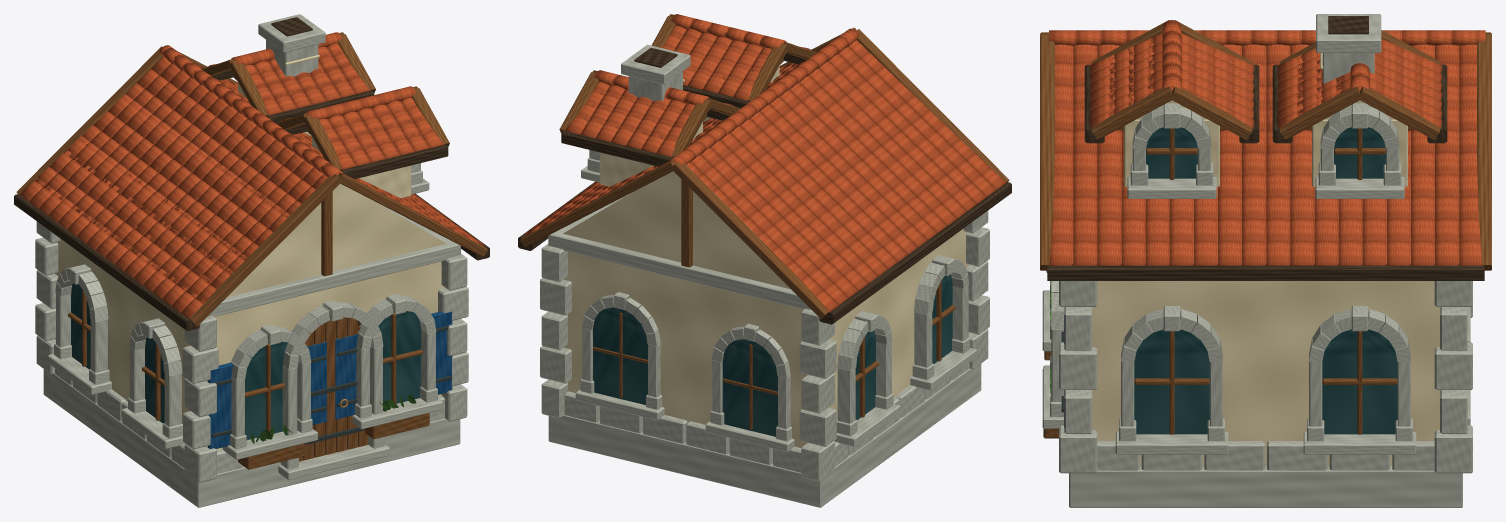
The model's file is orchard_cottage.glb.
The picture shows the model from 3 angles, left to right: view 1: azimuth 30°, elevation 25°; view 2: azimuth 150°, elevation 25°; view 3: azimuth 270°, elevation 25°; orthographic projection. The views are drawn at different scales.
Parts seen in each view (by area): view 1: orchard_cottage_Roof.001, orchard_cottage_Structure.001, orchard_cottage_Joinery.001, orchard_cottage_Detail.001, orchard_cottage_Glazing.001, orchard_cottage_Metalwork.001; view 2: orchard_cottage_Structure.001, orchard_cottage_Roof.001, orchard_cottage_Detail.001, orchard_cottage_Joinery.001, orchard_cottage_Glazing.001; view 3: orchard_cottage_Roof.001, orchard_cottage_Structure.001, orchard_cottage_Joinery.001, orchard_cottage_Detail.001, orchard_cottage_Glazing.001.
Boxes of the visible parts, x1,y1,x2,y2 form: orchard_cottage_Roof.001: (19,32,484,319); orchard_cottage_Structure.001: (35,14,468,507); orchard_cottage_Joinery.001: (14,32,489,469); orchard_cottage_Detail.001: (47,163,442,479); orchard_cottage_Glazing.001: (71,283,421,440); orchard_cottage_Metalwork.001: (211,325,451,444); orchard_cottage_Structure.001: (540,44,989,507); orchard_cottage_Roof.001: (523,14,1006,311); orchard_cottage_Detail.001: (575,150,976,451); orchard_cottage_Joinery.001: (518,14,1011,429); orchard_cottage_Glazing.001: (593,274,952,436); orchard_cottage_Roof.001: (1049,20,1485,265); orchard_cottage_Structure.001: (1059,14,1472,507); orchard_cottage_Joinery.001: (1040,20,1491,437); orchard_cottage_Detail.001: (1042,103,1470,454); orchard_cottage_Glazing.001: (1134,127,1397,434).
Size of the model in its own units: 5.34 by 5.92 by 5.41.
Materials: 4 (4 with a texture image).
